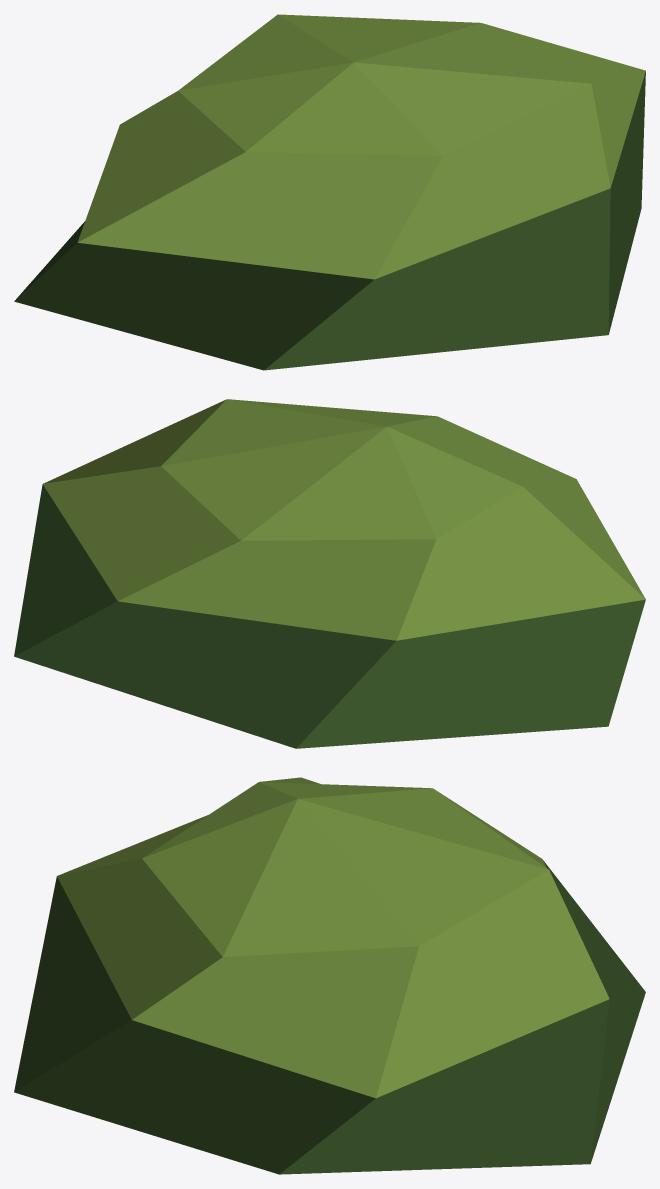
Rendered from gf_stone_d.glb.
3 views of the same model, one above another, from view 1: azimuth 30°, elevation 25°; view 2: azimuth 150°, elevation 25°; view 3: azimuth 270°, elevation 25° (orthographic). The views are drawn at different scales.
Parts seen in each view (by area): view 1: gf_stone_d; view 2: gf_stone_d; view 3: gf_stone_d.
Boxes of the visible parts, x1=… form: gf_stone_d: x1=14, y1=14, x2=645, y2=370; gf_stone_d: x1=14, y1=399, x2=645, y2=748; gf_stone_d: x1=14, y1=777, x2=645, y2=1174.
Size of the model in its own units: 0.1361 by 0.044 by 0.1111.
